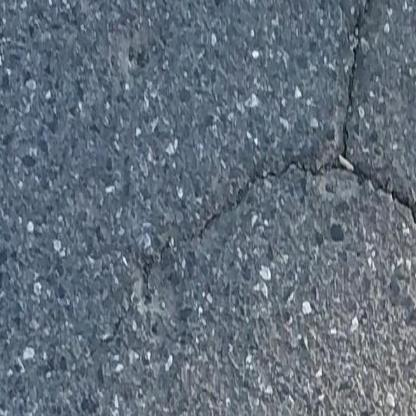Cracks: (250, 0, 416, 250), (190, 185, 248, 218)
